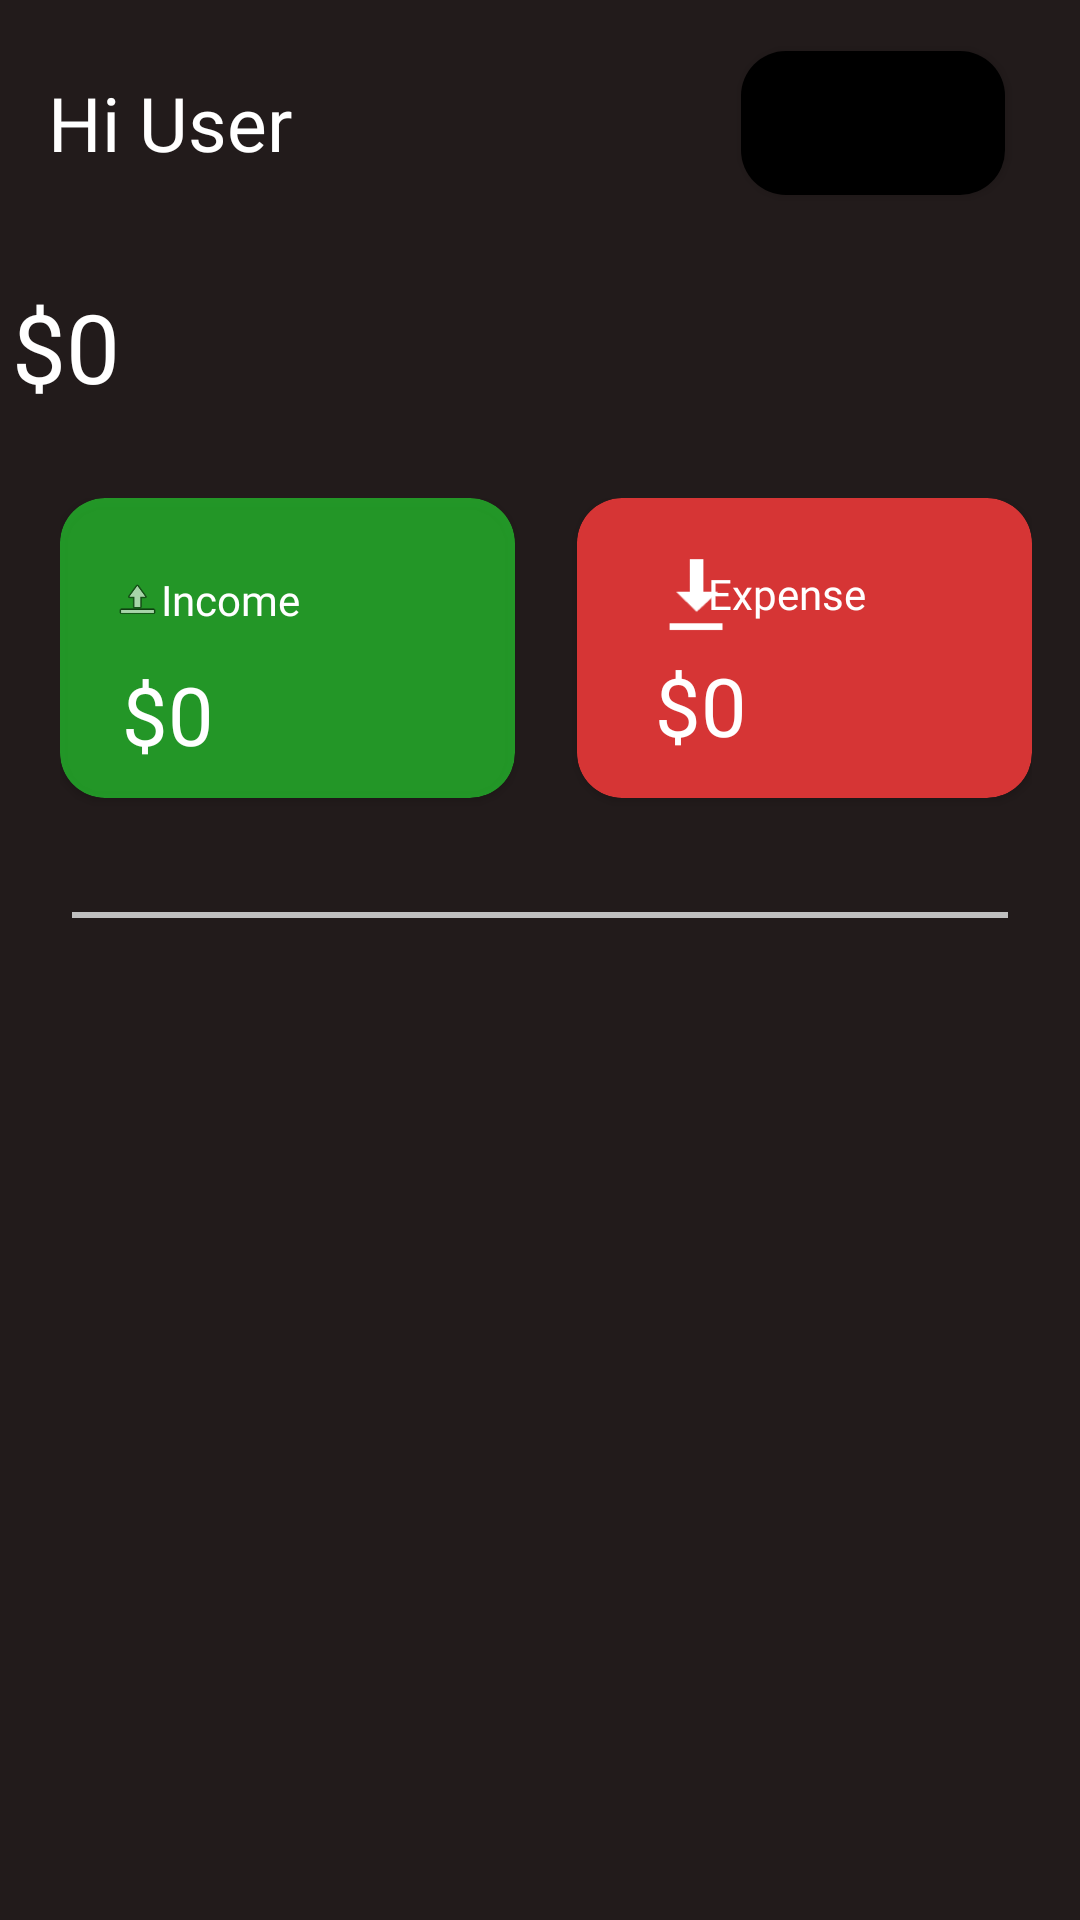

Named icons in this screenshot (1080 x 1920) and their centers, [x,y]:
download done: [700,594]
upload: [137,599]
